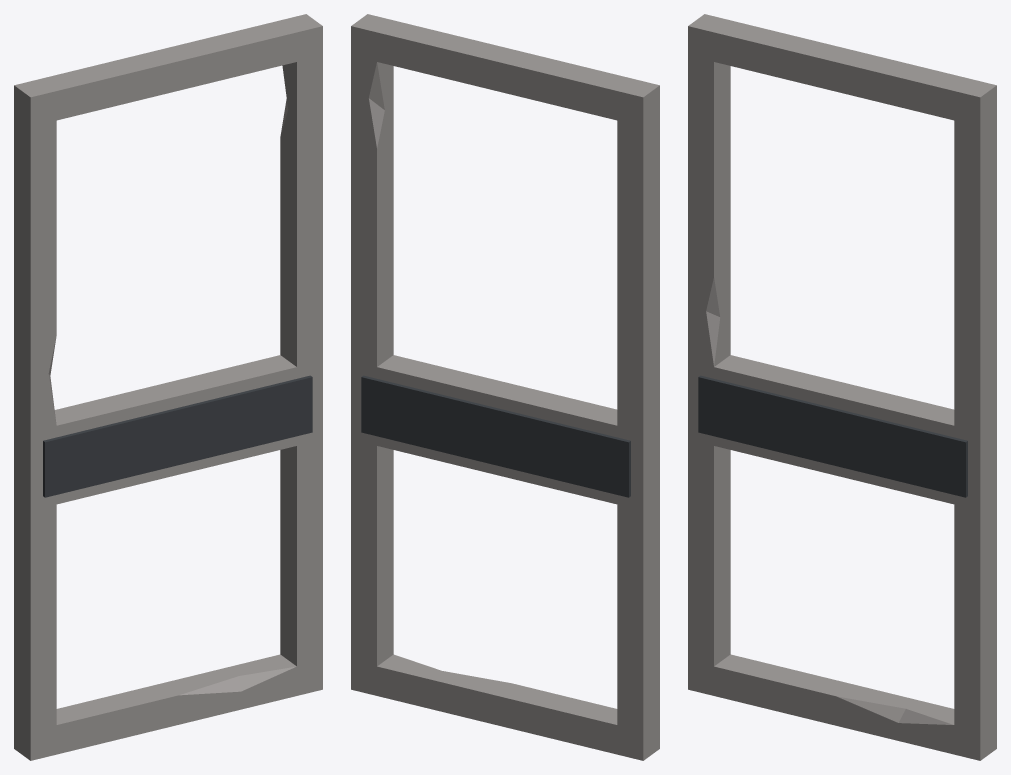
The model's file is SM_Bld_Door_Shop_01.glb.
3 views of the same model, side by side, from view 1: azimuth 30°, elevation 25°; view 2: azimuth 150°, elevation 25°; view 3: azimuth 330°, elevation 25° (orthographic).
Visible parts, largest first — view 1: SM_Bld_Door_Shop_01; view 2: SM_Bld_Door_Shop_01; view 3: SM_Bld_Door_Shop_01.
Part boxes in pixels (x1,y1,x2,y2): SM_Bld_Door_Shop_01: (14,14,322,760); SM_Bld_Door_Shop_01: (351,14,659,760); SM_Bld_Door_Shop_01: (688,14,996,760).
Bounding box in the file's own units: 1.03 × 2.22 × 0.127.
1 material, 1 textured.
